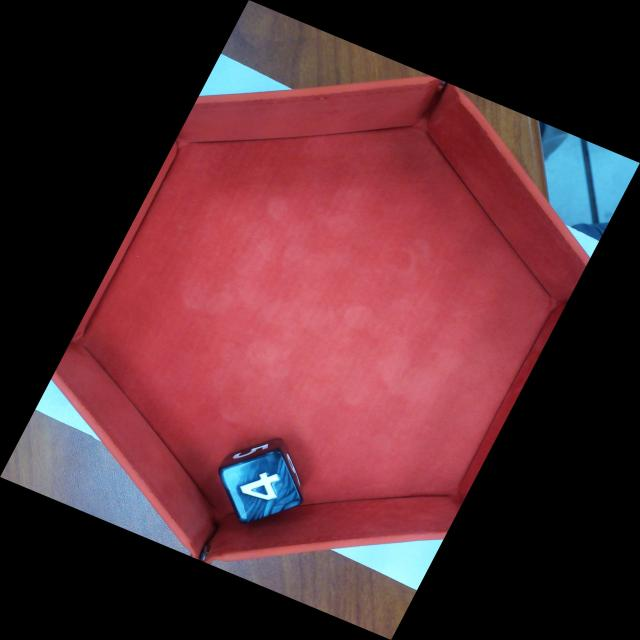dice: (221, 448, 303, 521)
